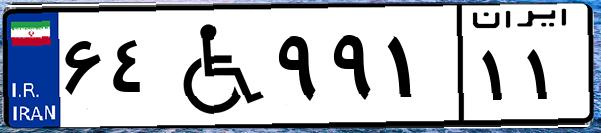1: (385, 28, 445, 110), (475, 38, 525, 113), (525, 38, 570, 115)
4: (110, 28, 158, 98)
6: (57, 26, 110, 100)
9: (270, 28, 330, 110), (330, 28, 385, 110)
ژ (معلولین و جانبازان): (158, 12, 270, 120)
